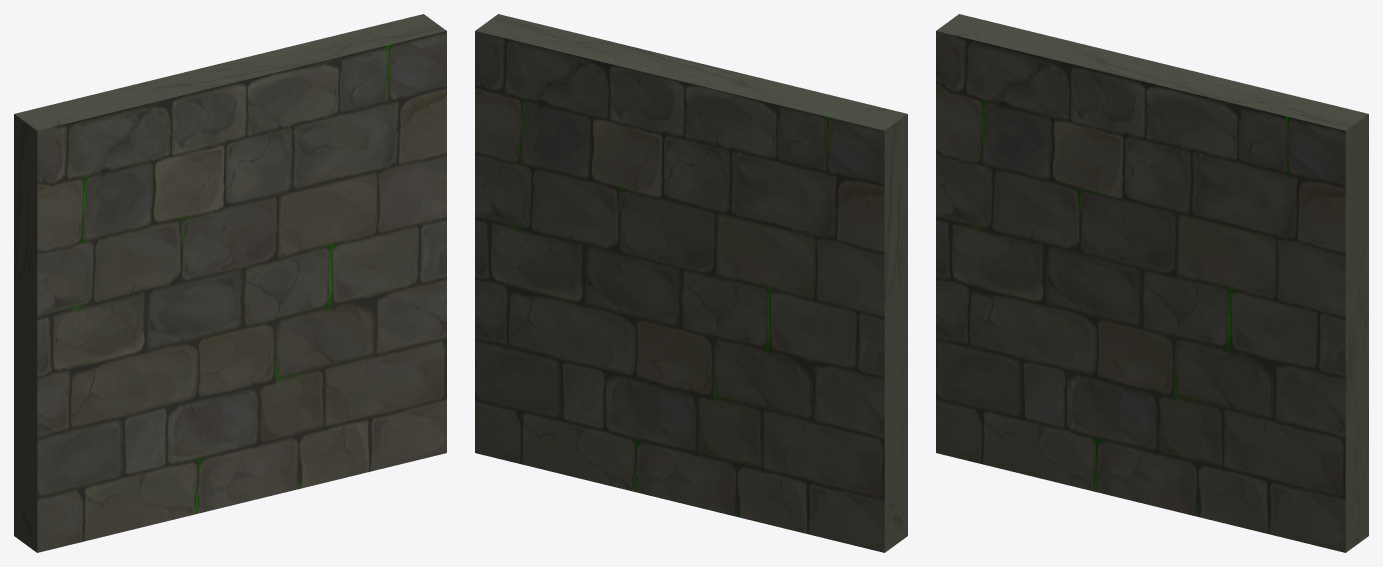
The model's file is SM_Wall_straight_True.fbx.
3 renders of one model, left to right at view 1: azimuth 30°, elevation 25°; view 2: azimuth 150°, elevation 25°; view 3: azimuth 330°, elevation 25°, orthographic.
Visible parts, largest first — view 1: SM_Wall_Straight5; view 2: SM_Wall_Straight5; view 3: SM_Wall_Straight5.
Boxes of the visible parts, x1,y1,x2,y2 form: SM_Wall_Straight5: (14,14,446,552); SM_Wall_Straight5: (475,14,907,552); SM_Wall_Straight5: (936,14,1368,552).
Size of the model in its own units: 2.5 by 2.46 by 0.2442.
